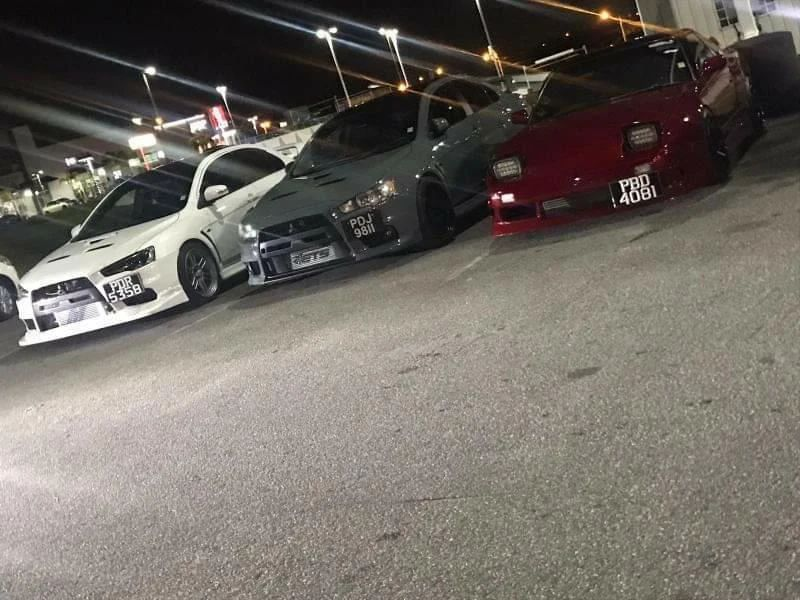License-Plate: (608, 181, 657, 209), (102, 284, 138, 306), (346, 220, 374, 241)
